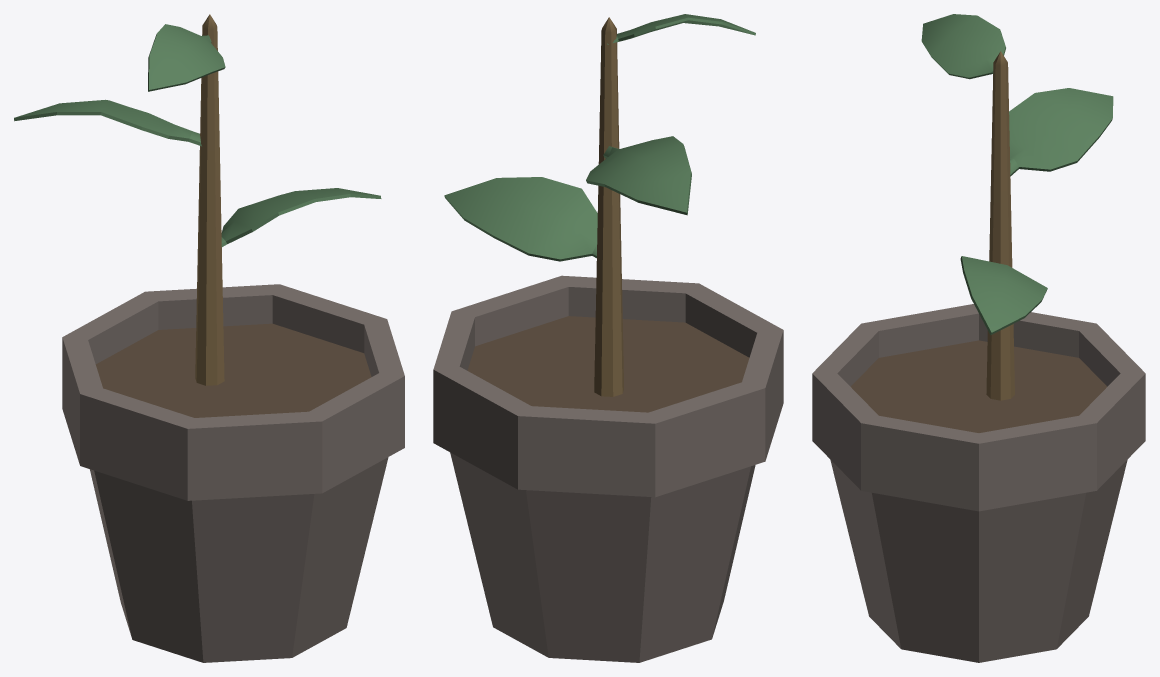
The model's file is plant.fbx.
3 views of the same model, side by side, from view 1: azimuth 30°, elevation 25°; view 2: azimuth 150°, elevation 25°; view 3: azimuth 270°, elevation 25° (orthographic). The views are drawn at different scales.
Parts seen in each view (by area): view 1: geo_plant; view 2: geo_plant; view 3: geo_plant.
Part boxes in pixels (box(x1,y1,x2,y2)): geo_plant: box(14, 14, 404, 662); geo_plant: box(433, 14, 783, 662); geo_plant: box(812, 14, 1145, 662).
Bounding box in the file's own units: 0.2643 × 0.4941 × 0.2639.
